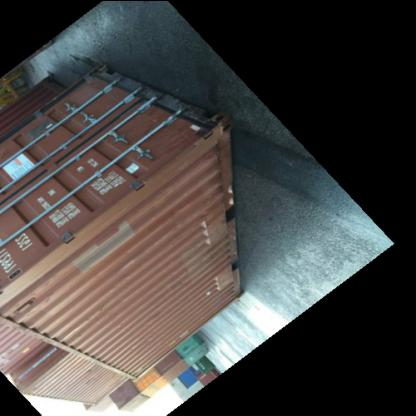Damage: (180, 111, 220, 141), (194, 212, 212, 250), (203, 272, 217, 300)
